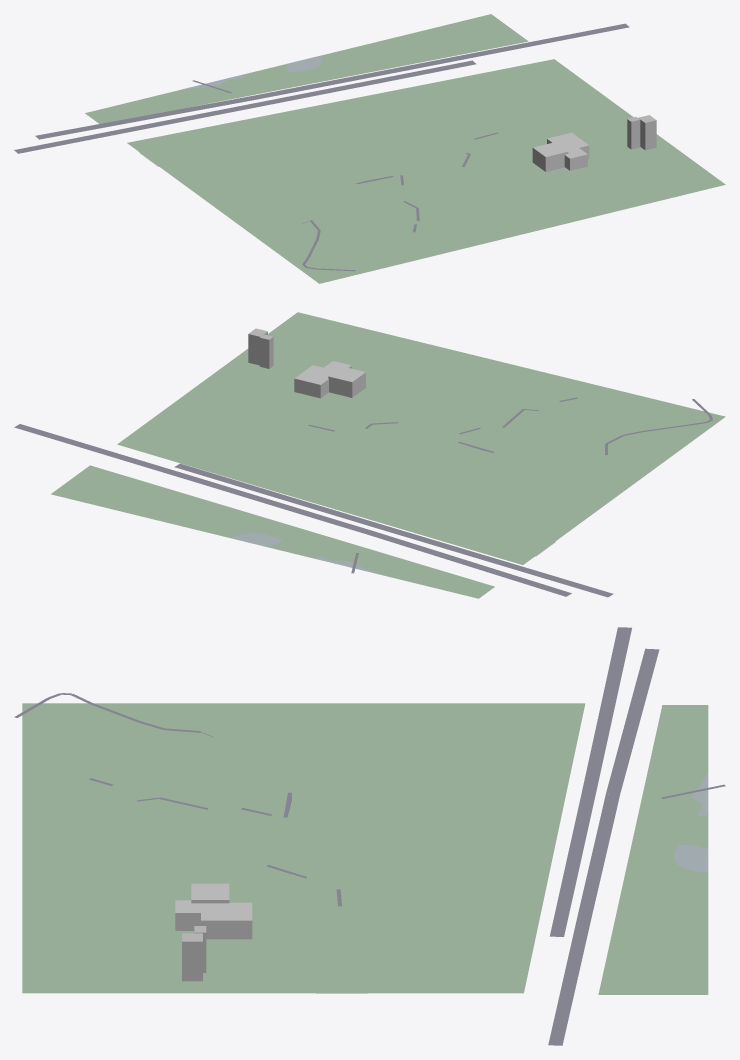
The model's file is 130_81_mid.glb.
3 views of the same model, one above another, from view 1: azimuth 30°, elevation 25°; view 2: azimuth 150°, elevation 25°; view 3: azimuth 270°, elevation 25° (orthographic). The views are drawn at different scales.
Bounding box in the file's own units: 724 × 34.83 × 519.
